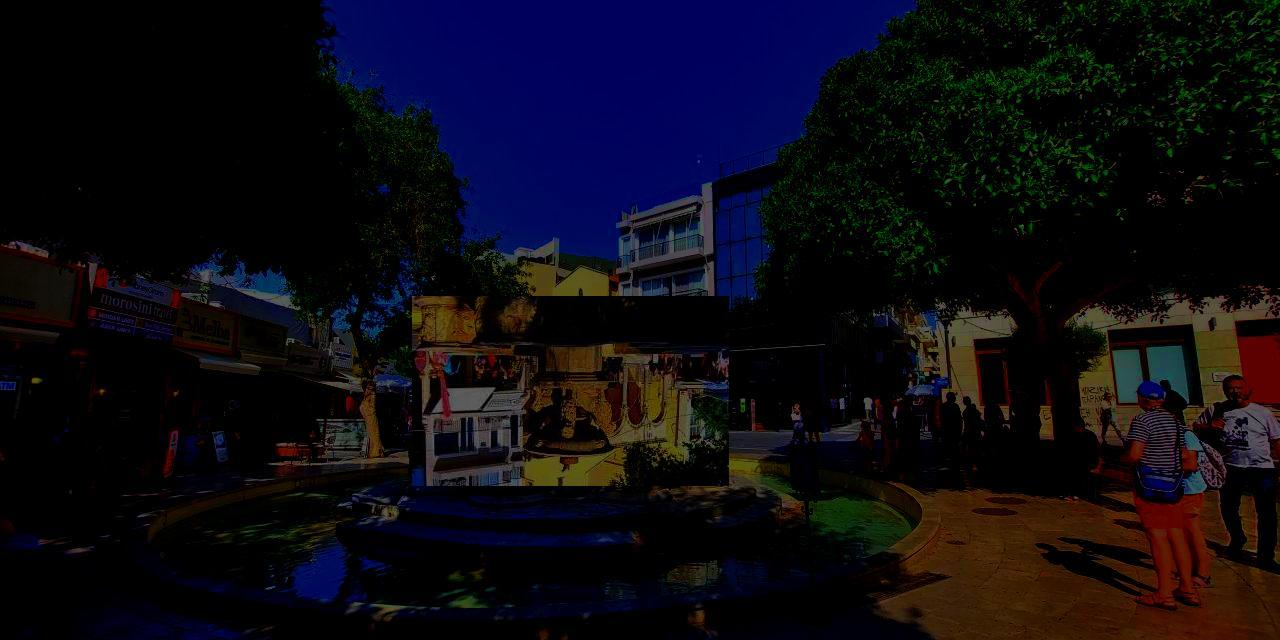Liontaria: (413, 297, 730, 487)
